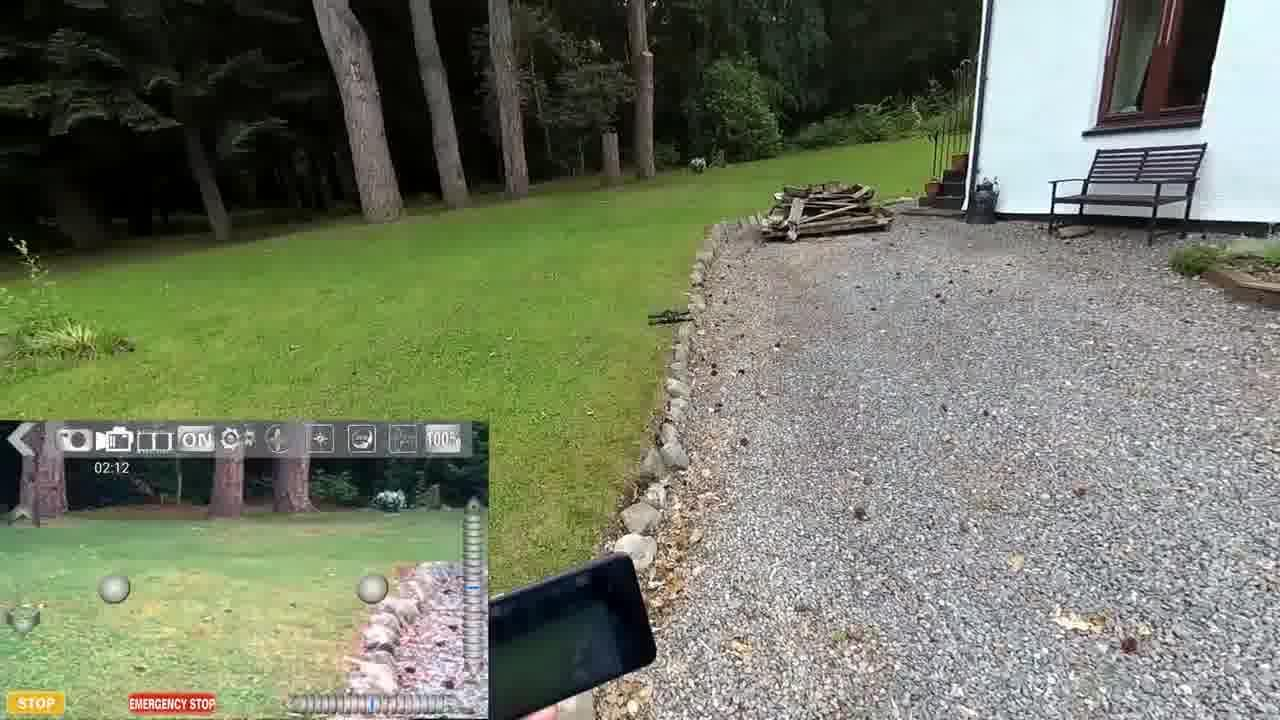drone: (644, 305, 698, 326)
